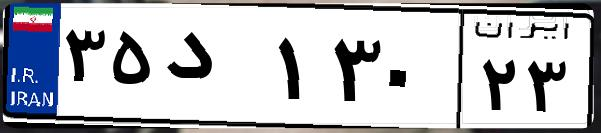0: (385, 28, 445, 110)
1: (270, 28, 330, 110)
2: (475, 38, 525, 113)
3: (330, 28, 385, 110), (57, 26, 110, 100), (525, 38, 570, 115)
5: (110, 28, 158, 98)
د: (158, 20, 270, 120)
